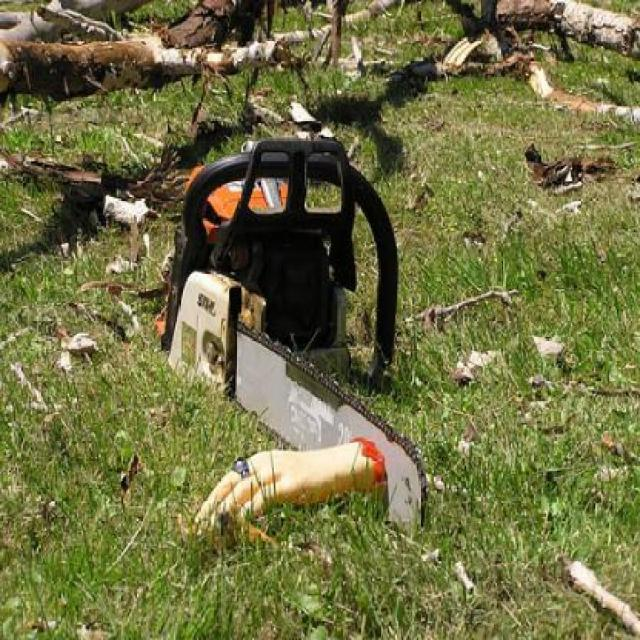Chainsaw: (155, 137, 427, 535)
